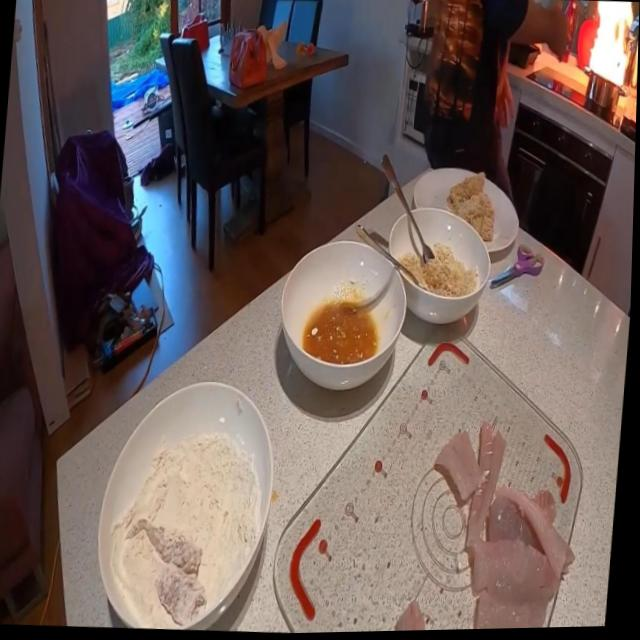fire: (584, 3, 638, 95)
